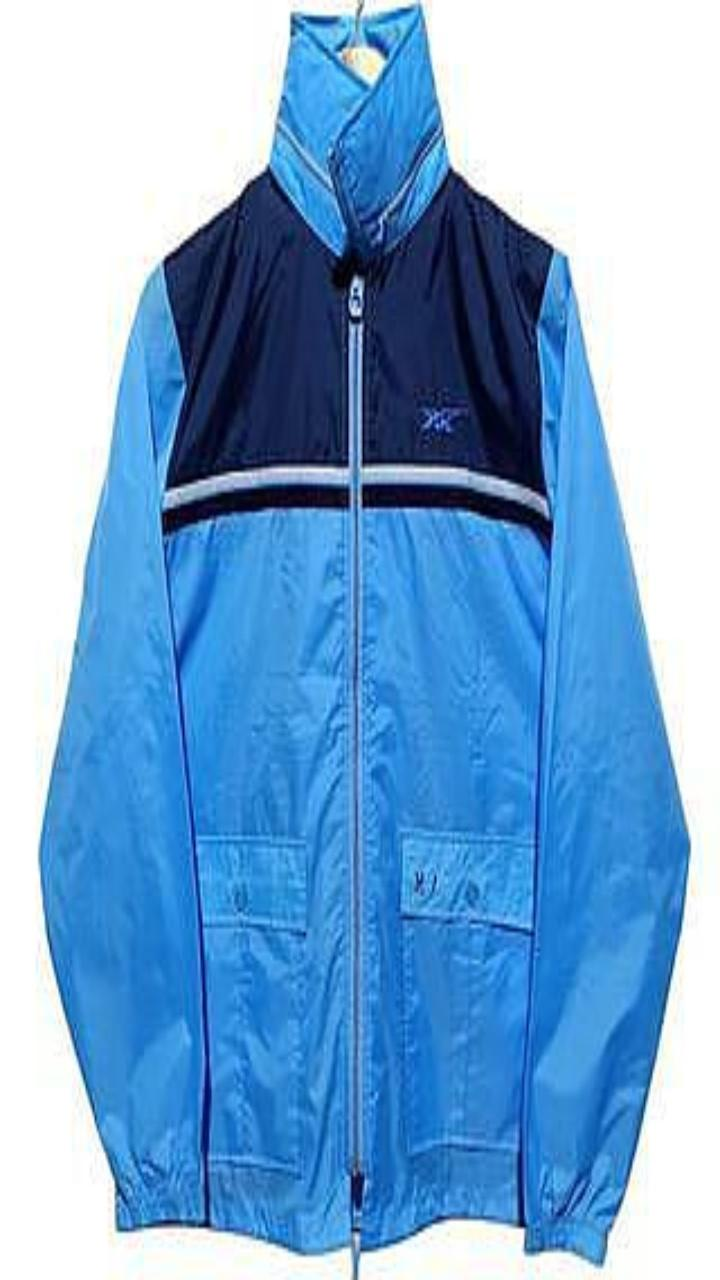Sports_Jacket: (41, 6, 687, 1262)
